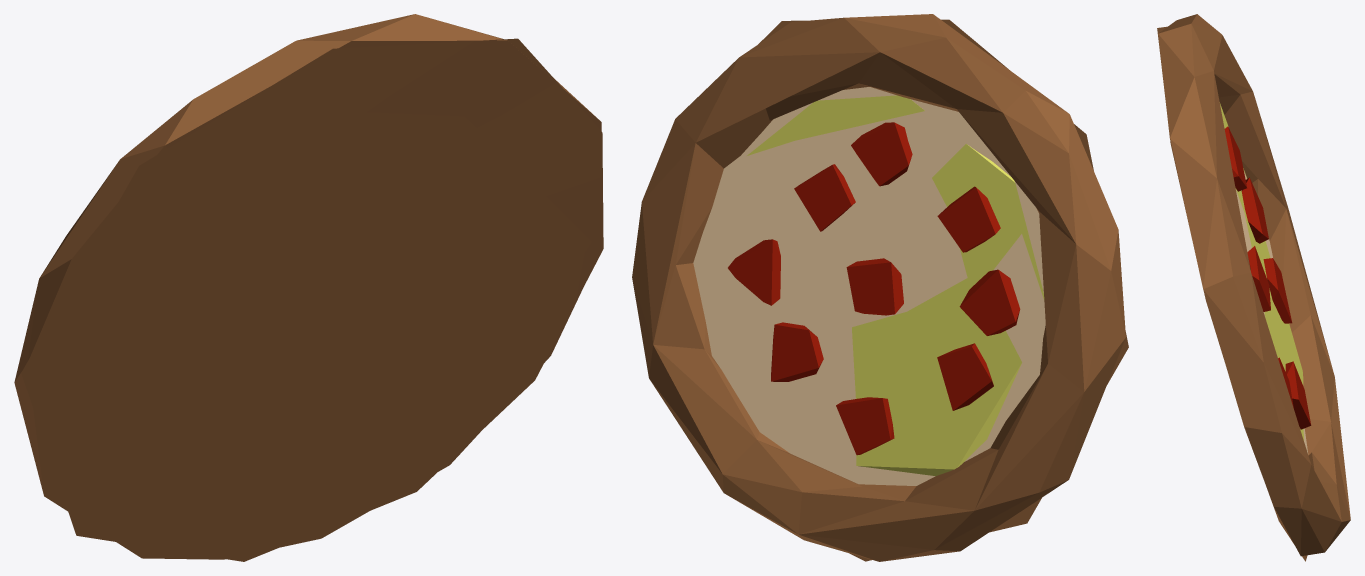
Rendered from food_3_pizza.fbx.
3 renders of one model, left to right at view 1: azimuth 30°, elevation 25°; view 2: azimuth 150°, elevation 25°; view 3: azimuth 270°, elevation 25°, orthographic. The views are drawn at different scales.
Visible parts, largest first — view 1: food_pizza; view 2: food_pizza; view 3: food_pizza.
Boxes of the visible parts, x1,y1,x2,y2 form: food_pizza: (14, 14, 603, 561); food_pizza: (632, 14, 1128, 561); food_pizza: (1157, 14, 1350, 561).
Size of the model in its own units: 122 by 116 by 41.32.
